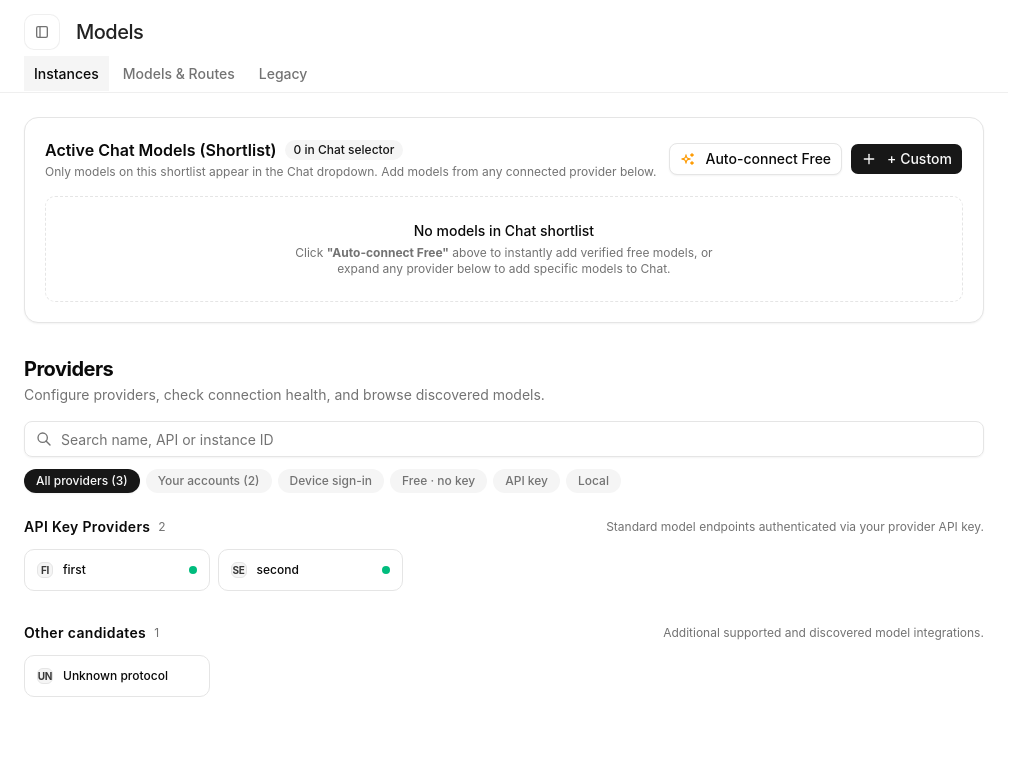
Test: ModelsWorkspace › keeps identical model IDs distinct by exact instance target
Step 1. Click the tab "Models & Routes" → (179, 74), box x1=113 y1=56 x2=245 y2=92
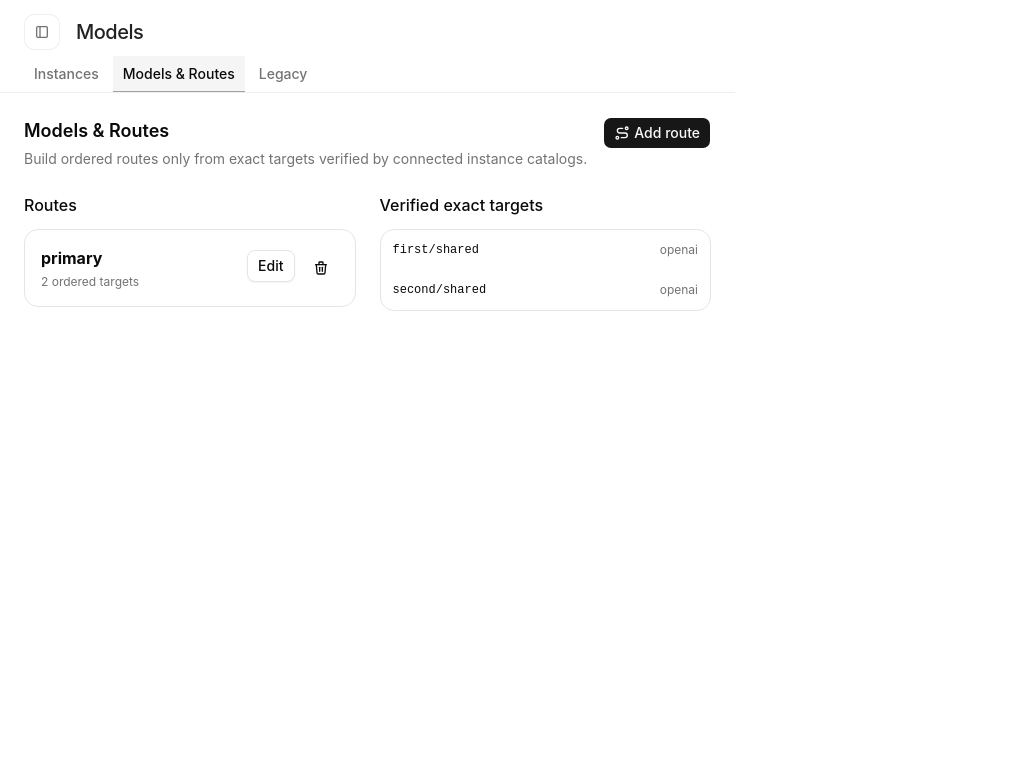
Expected: the text "first/shared" is shown, x1=392 y1=242 x2=479 y2=258
Expected: the text "second/shared" is shown, x1=392 y1=282 x2=486 y2=298
